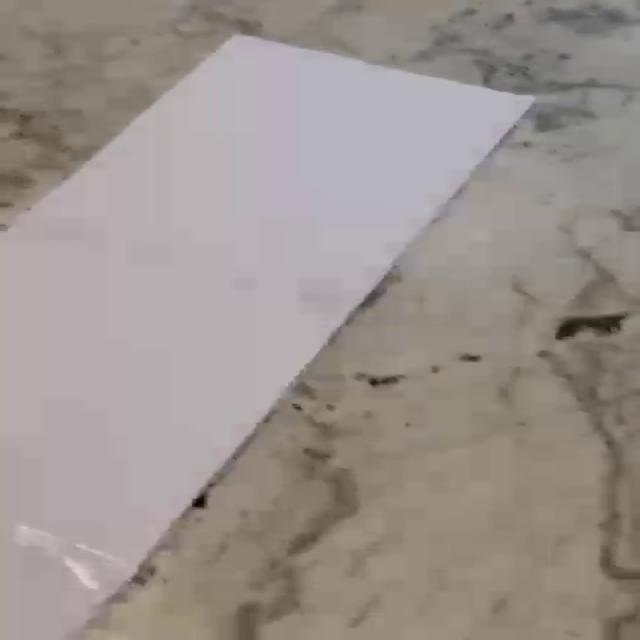road: (1, 35, 533, 640)
